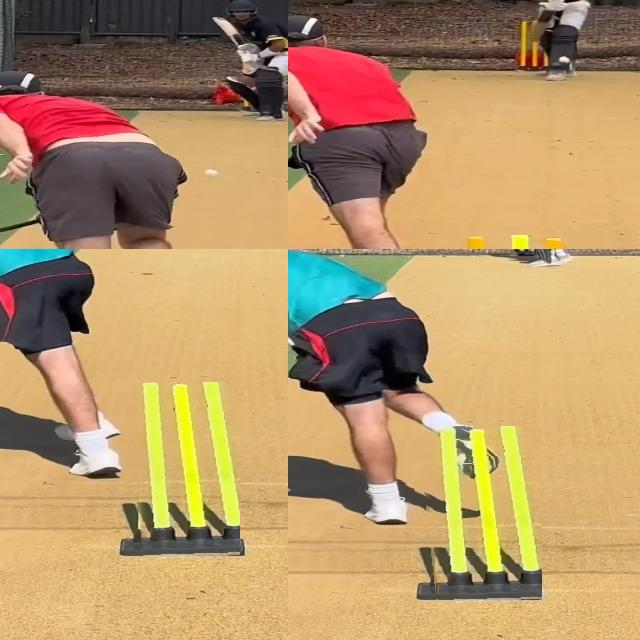Cricket ball: (202, 168, 220, 178), (556, 54, 572, 64)
Stumps: (417, 426, 542, 602), (124, 382, 240, 558)
